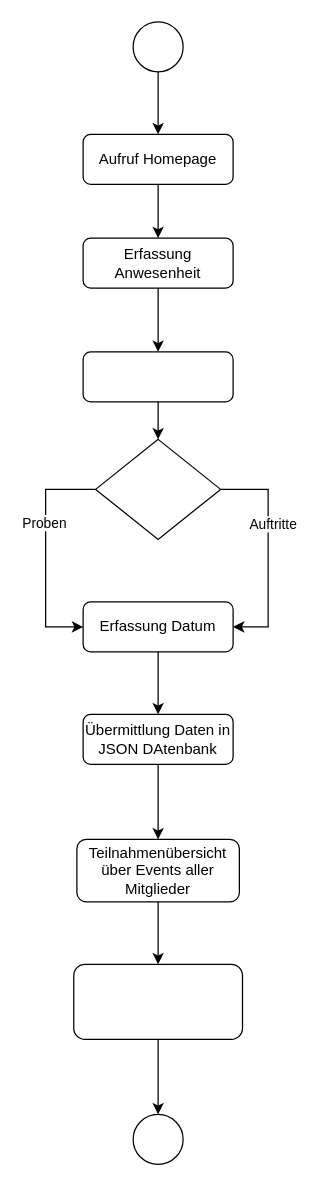
The diagram is 318 pixels wide and 1186 high, and some of its shapes have lost their labels. The shapes that lost their labels are listed below. From the top down, each one's centre as x and y in pixels, then its label:
point (157, 376): Auswahl Mitglieder mittels Drop Down
point (157, 488): Auswahl Event
point (157, 1001): Teilnahmenübersicht über Events einzelner Mitglieder mit Stundenaufwand
